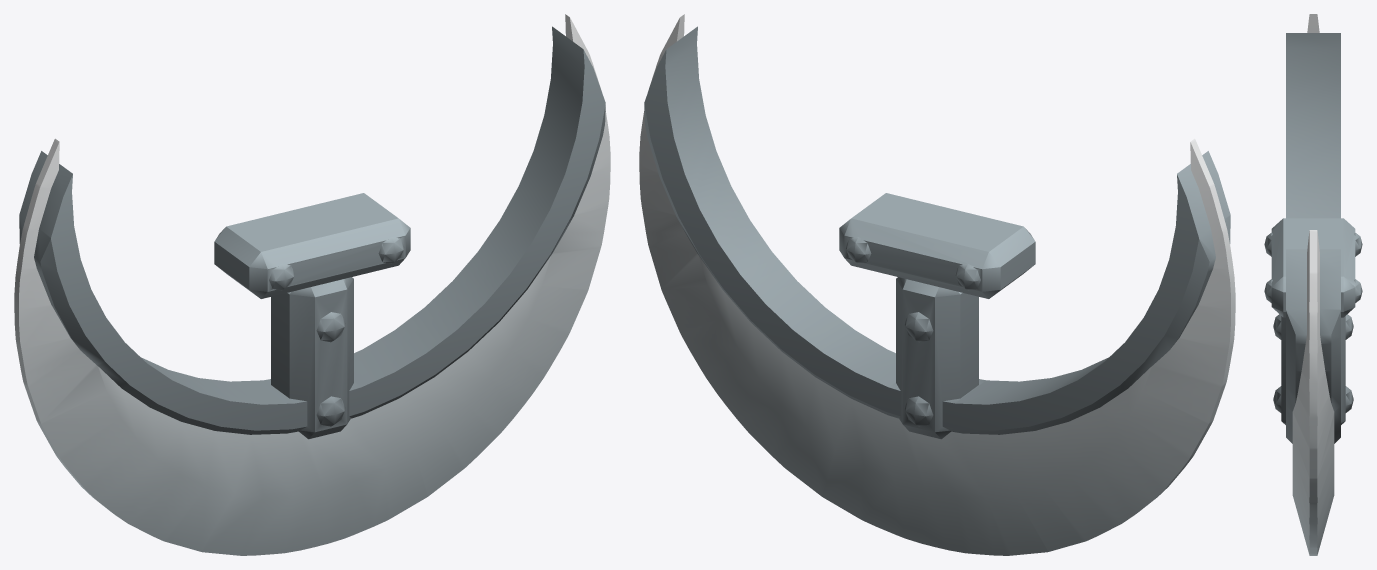
File: pendulum_blade.glb
3 renders of one model, left to right at view 1: azimuth 30°, elevation 25°; view 2: azimuth 150°, elevation 25°; view 3: azimuth 270°, elevation 25°, orthographic. The views are drawn at different scales.
Parts seen in each view (by area): view 1: pendulum_blade; view 2: pendulum_blade; view 3: pendulum_blade.
Boxes of the visible parts, x1,y1,x2,y2 form: pendulum_blade: (14, 14, 610, 555); pendulum_blade: (639, 14, 1235, 555); pendulum_blade: (1264, 14, 1362, 555).
Size of the model in its own units: 1.84 by 1.39 by 0.304.
1 material, 1 textured.
